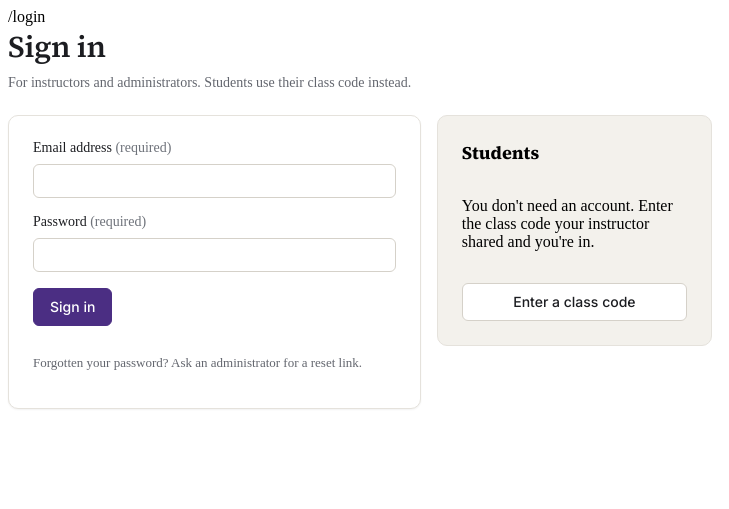
Test case: LoginPage › shows the backend message for a refused sign-in
Type "x@uw.edu" into the field labelled "Email address (required)".
click(214, 181); type("x@uw.edu")  # box [33,164,396,198]
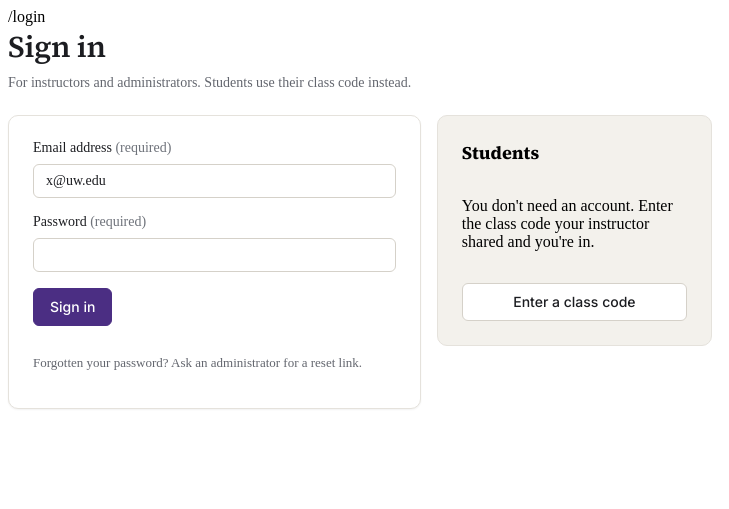
Type "wrong" into the password field labelled "Password (required)".
click(214, 255); type("wrong")  # box [33,238,396,272]
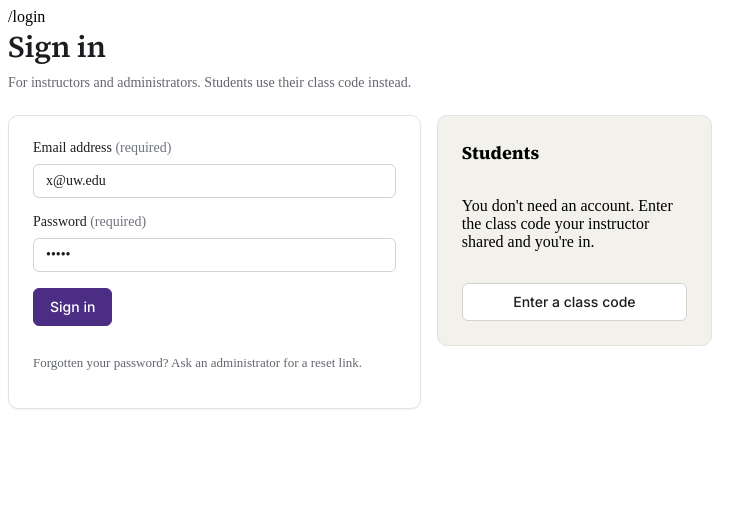
Click the button "Sign in".
click(73, 307)  # box [33,288,112,326]
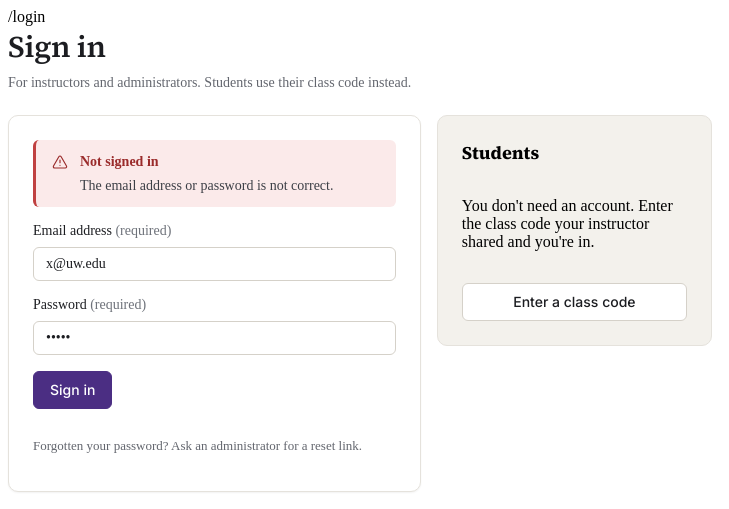
Expected: the text with test id "location" reads "/login", [8,8,45,25]
Expected: the text "The email address or password is not correct." is shown, [80,176,334,195]
